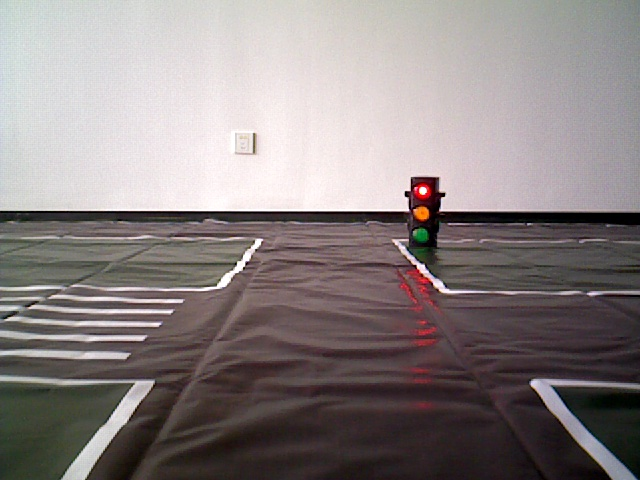red: (409, 176, 438, 250)
